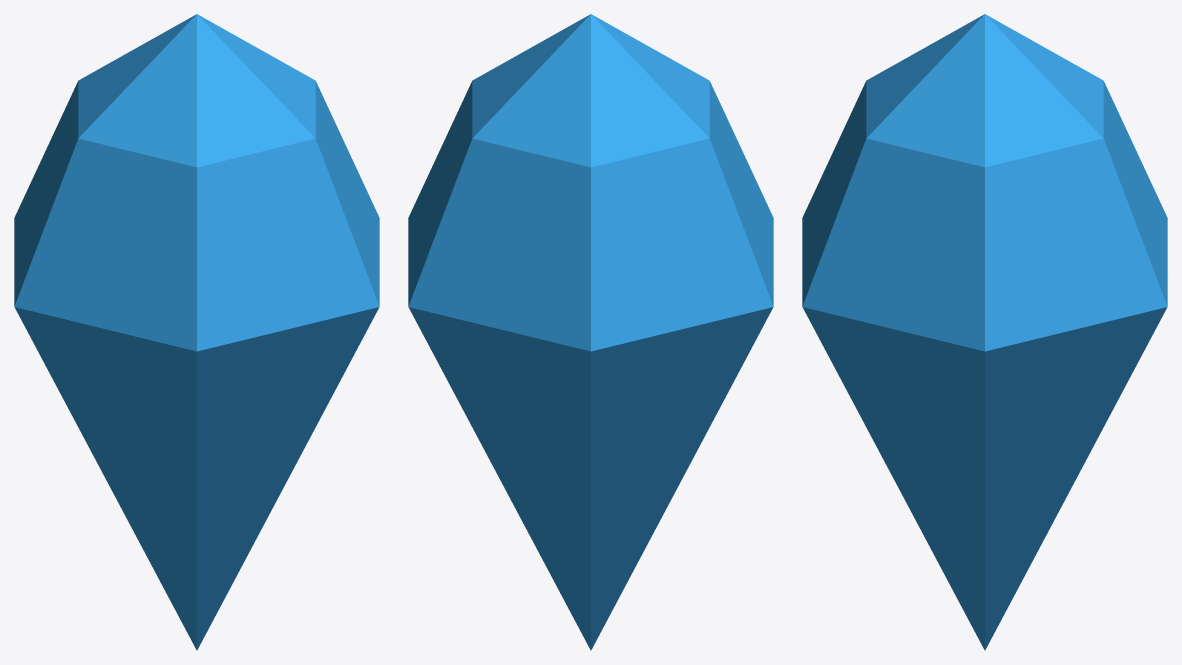
File: unit_water_drop.glb
3 views of the same model, side by side, from view 1: azimuth 30°, elevation 25°; view 2: azimuth 150°, elevation 25°; view 3: azimuth 270°, elevation 25° (orthographic).
Visible parts, largest first — view 1: unit_water_drop_water; view 2: unit_water_drop_water; view 3: unit_water_drop_water.
Part boxes in pixels (box(x1,y1,x2,y2)): unit_water_drop_water: box(14, 14, 379, 650); unit_water_drop_water: box(408, 14, 773, 650); unit_water_drop_water: box(802, 14, 1167, 650).
Size of the model in its own units: 0.48 by 0.8 by 0.4157.
